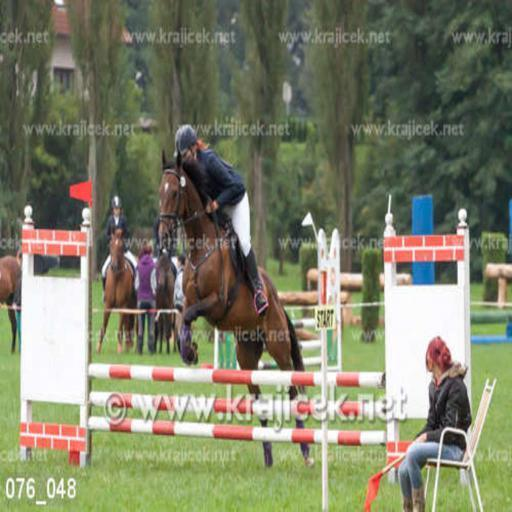horse: (158, 150, 314, 468), (94, 226, 138, 354), (154, 250, 178, 352), (0, 255, 22, 352)
